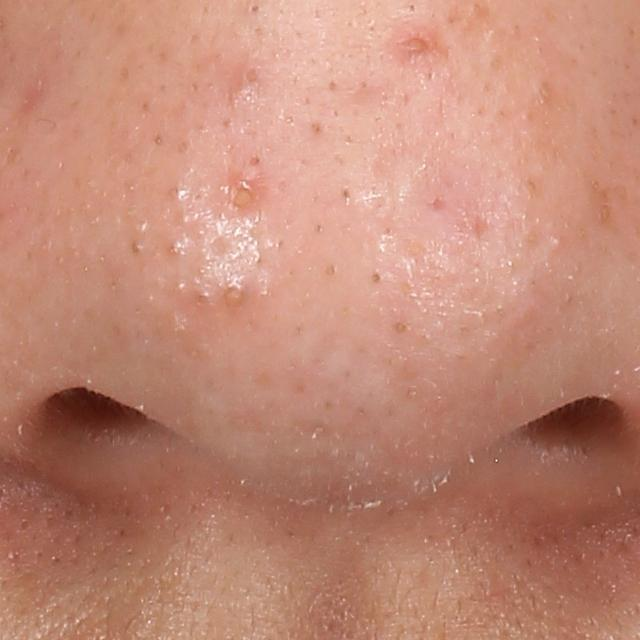comedo: (219, 280, 246, 312), (545, 234, 565, 256), (365, 268, 385, 288), (243, 66, 260, 85), (391, 318, 408, 336), (247, 0, 263, 15)
